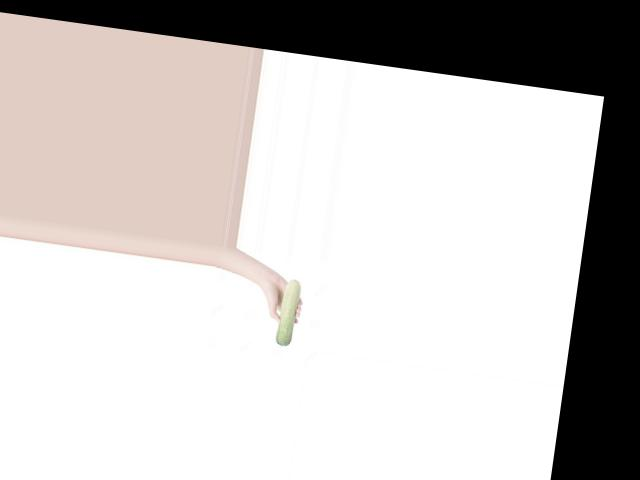cucumber: (273, 277, 301, 347)
